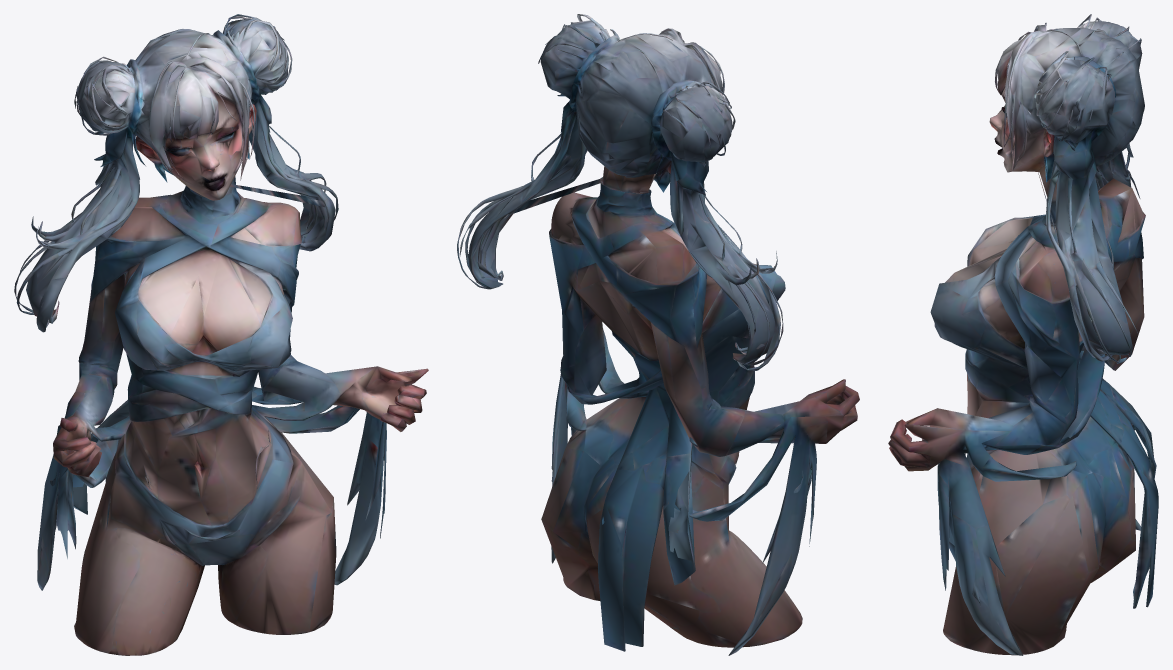
Rendered from girl-11.glb.
3 renders of one model, left to right at view 1: azimuth 30°, elevation 25°; view 2: azimuth 150°, elevation 25°; view 3: azimuth 270°, elevation 25°, orthographic. The views are drawn at different scales.
Parts seen in each view (by area): view 1: node_0; view 2: node_0; view 3: node_0.
Boxes of the visible parts, x1=… form: node_0: x1=14, y1=14, x2=428, y2=655; node_0: x1=457, y1=14, x2=859, y2=655; node_0: x1=888, y1=14, x2=1158, y2=655.
Bounding box in the file's own units: 0.664 × 1.1 × 0.4653.
Materials: 1 (1 with a texture image).
